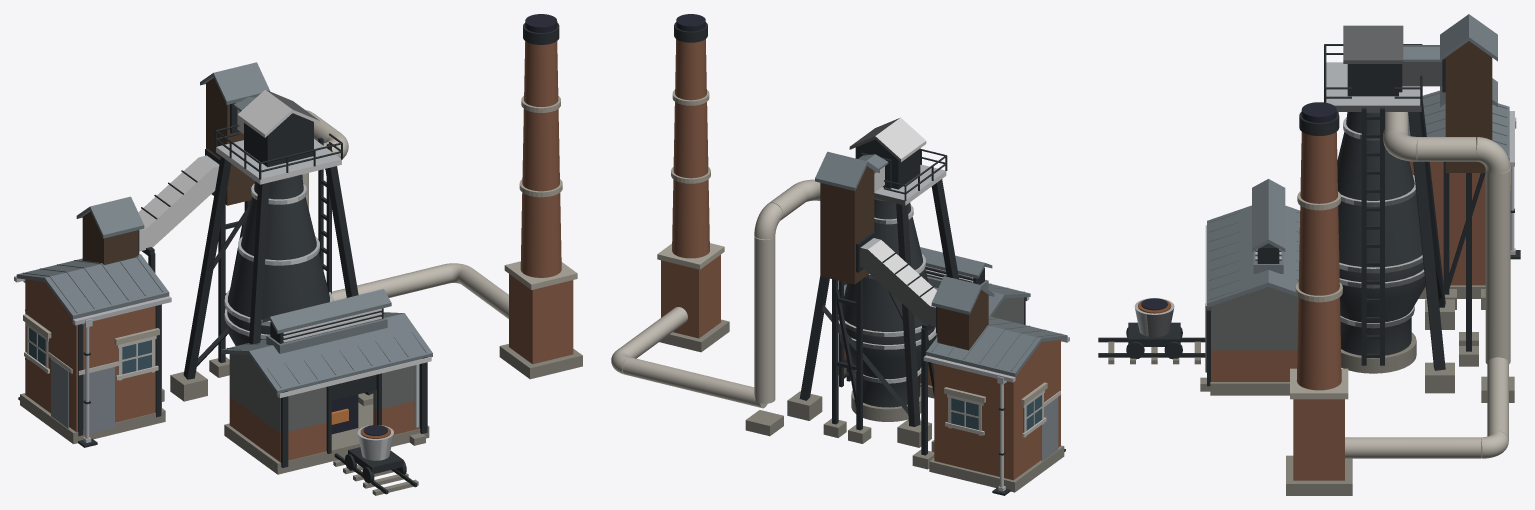
The model's file is furnace_lvl1.glb.
The picture shows the model from 3 angles, left to right: view 1: azimuth 30°, elevation 25°; view 2: azimuth 150°, elevation 25°; view 3: azimuth 270°, elevation 25°; orthographic projection. The views are drawn at different scales.
Parts seen in each view (by area): view 1: furnace_v2, furnace_v2_Glass; view 2: furnace_v2, furnace_v2_Glass; view 3: furnace_v2.
Boxes of the visible parts, bbox=[...] form: furnace_v2: bbox=[14, 14, 582, 495]; furnace_v2_Glass: bbox=[29, 328, 151, 374]; furnace_v2: bbox=[611, 14, 1069, 495]; furnace_v2_Glass: bbox=[951, 395, 1041, 430]; furnace_v2: bbox=[1098, 14, 1520, 495].
Bounding box in the file's own units: 0.9812 × 0.6871 × 0.7058.
